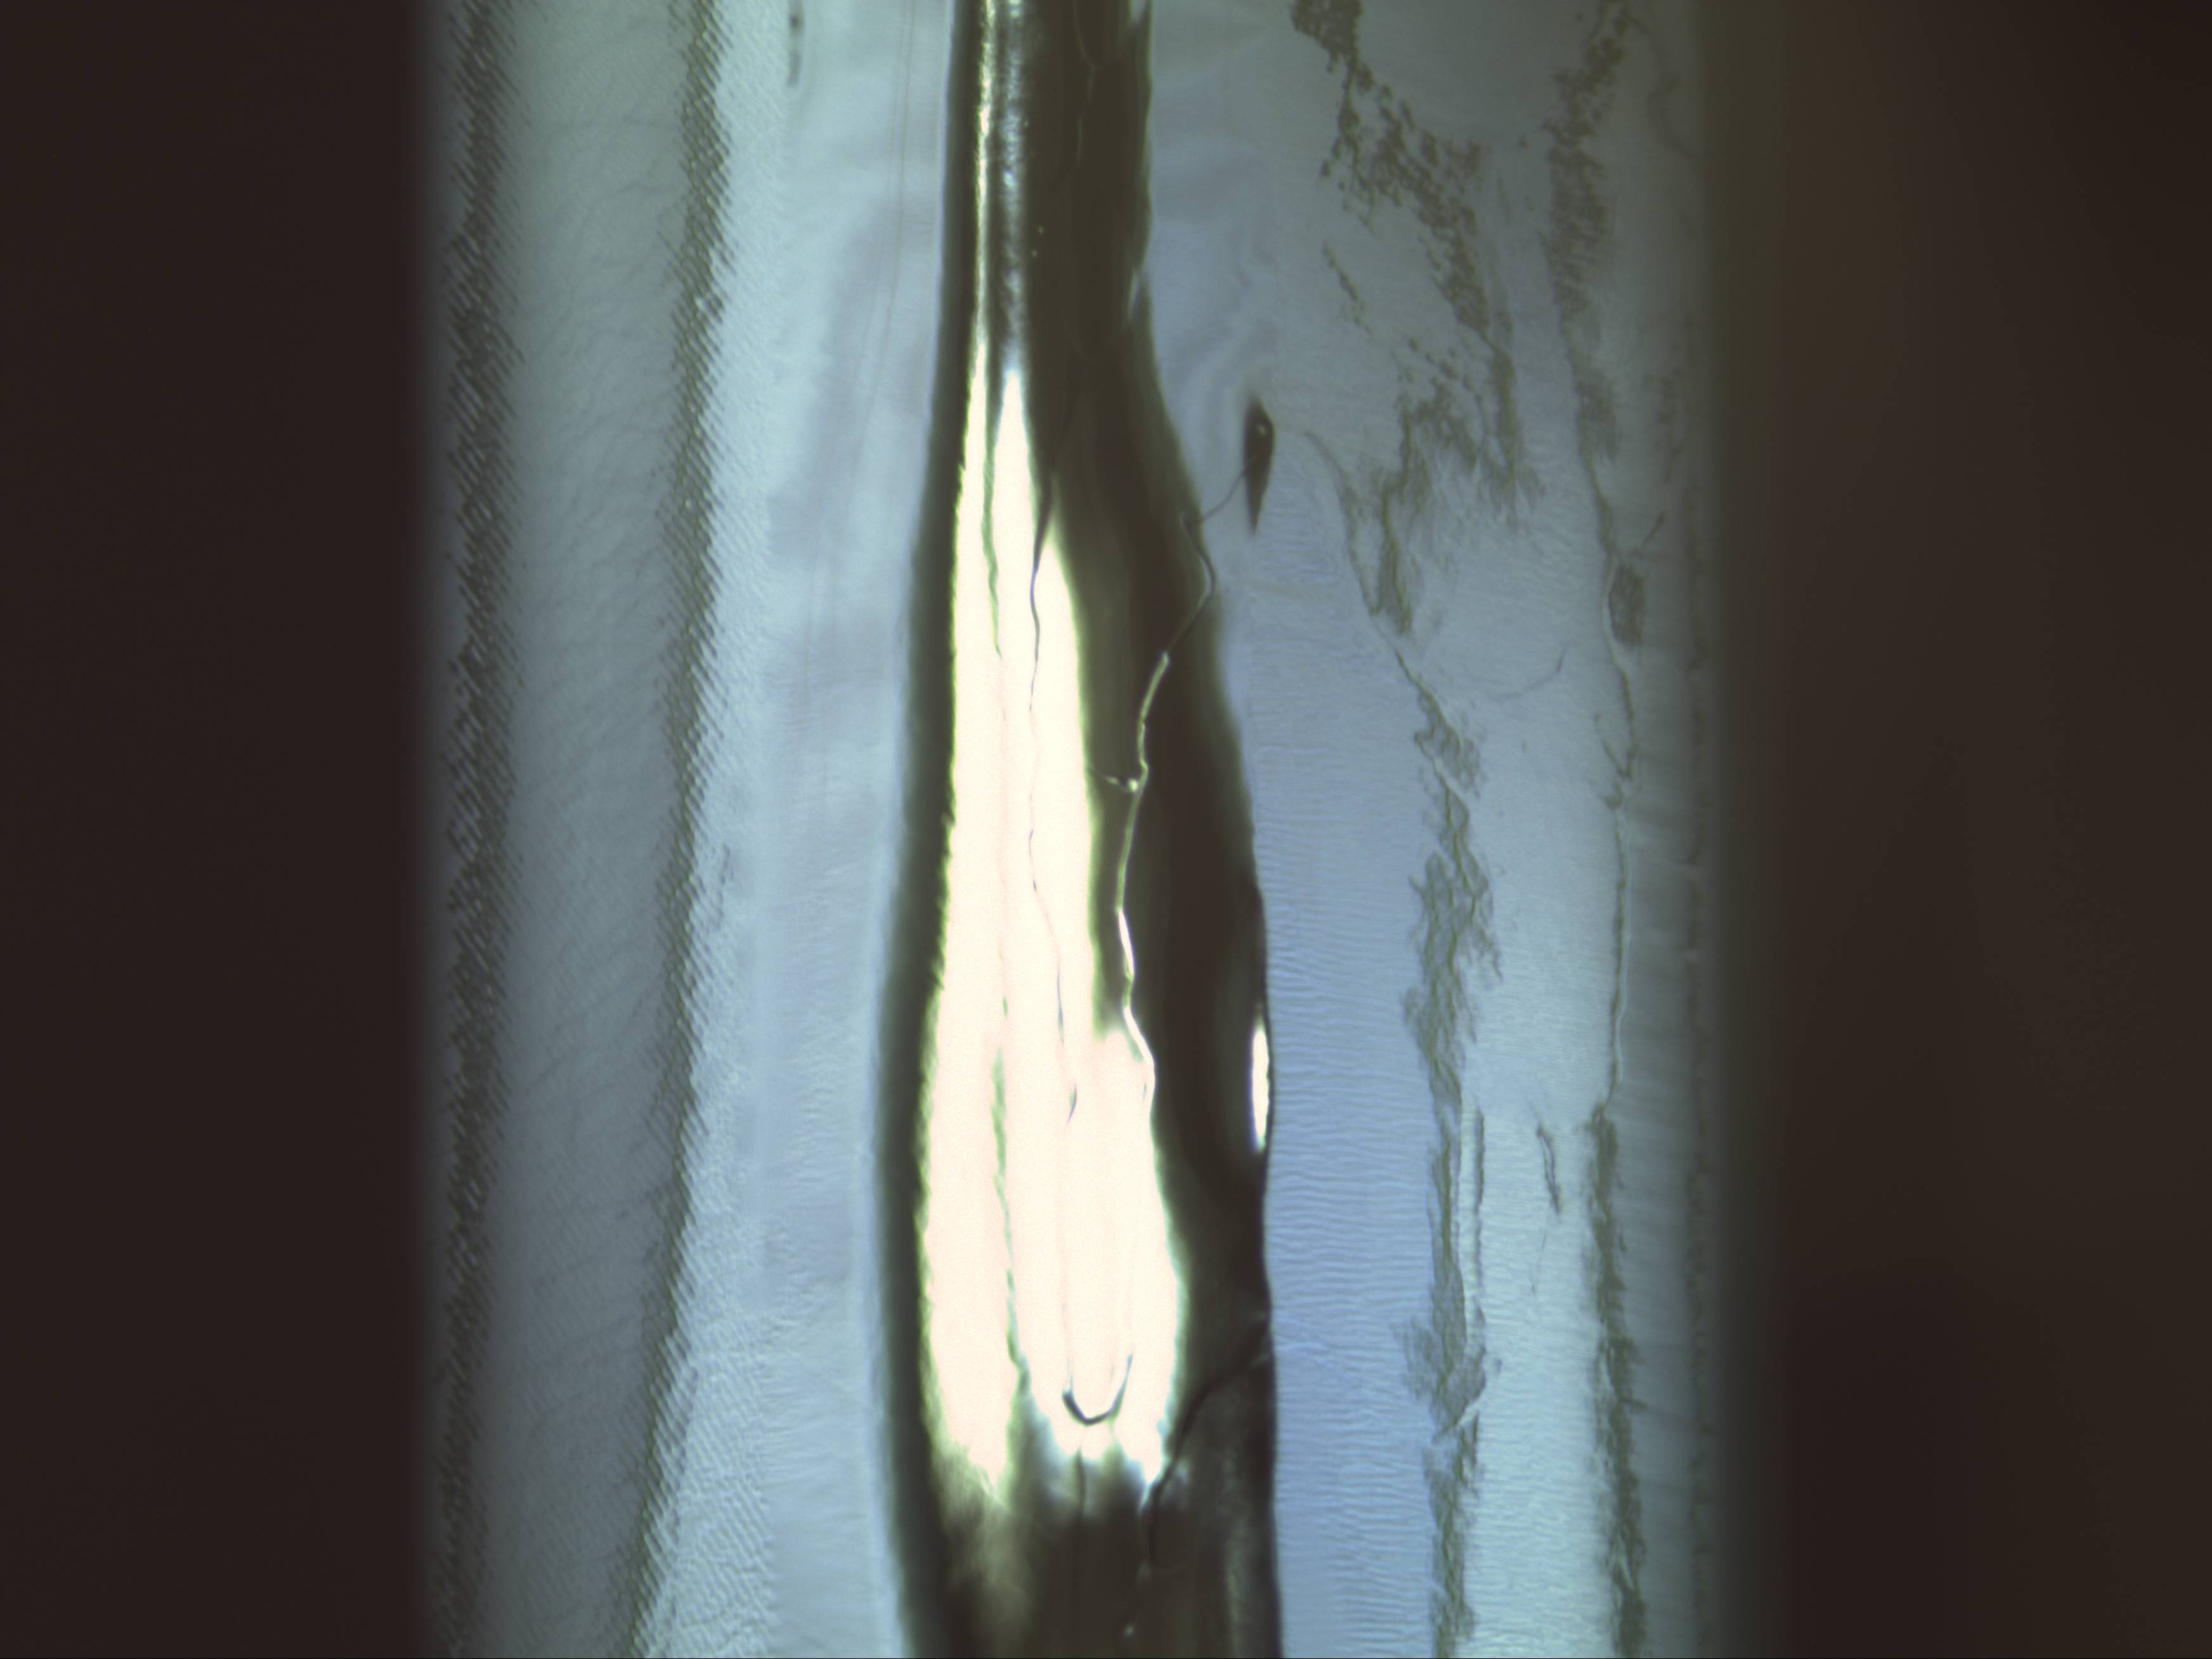defect: (1103, 762, 1150, 798)
